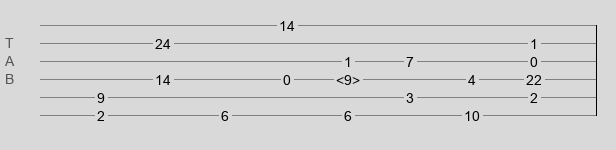0: (283, 72, 291, 82), (530, 54, 538, 64)
1: (344, 54, 352, 64), (530, 36, 538, 46)
10: (464, 108, 480, 118)
14: (155, 72, 171, 82), (279, 18, 295, 28)
2: (97, 108, 105, 118), (530, 90, 538, 100)
22: (526, 72, 542, 82)
24: (155, 36, 171, 46)
3: (406, 90, 414, 100)
4: (468, 72, 476, 82)
6: (221, 108, 229, 118), (344, 108, 352, 118)
7: (406, 54, 414, 64)
9: (97, 90, 105, 100)
harmonic: (336, 72, 360, 82)
